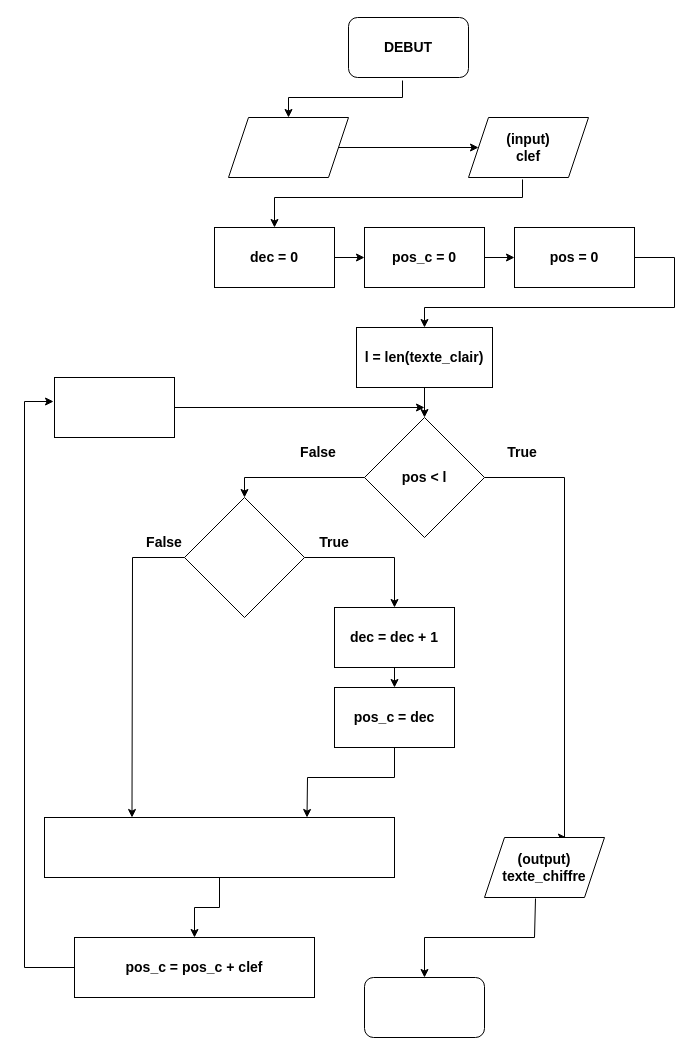
This 700x1055 diagram has some shape labels left out. Each missing label, with the centre of its shape:
"(input) texte_clair" goes at (288,147).
"FIN" goes at (424,1007).
"pos = pos + 1" goes at (114,407).
"pos_c > l-1" goes at (244,557).
"texte_chiffre = texte_chiffre + texte_clair[pos_c]" goes at (219,847).
